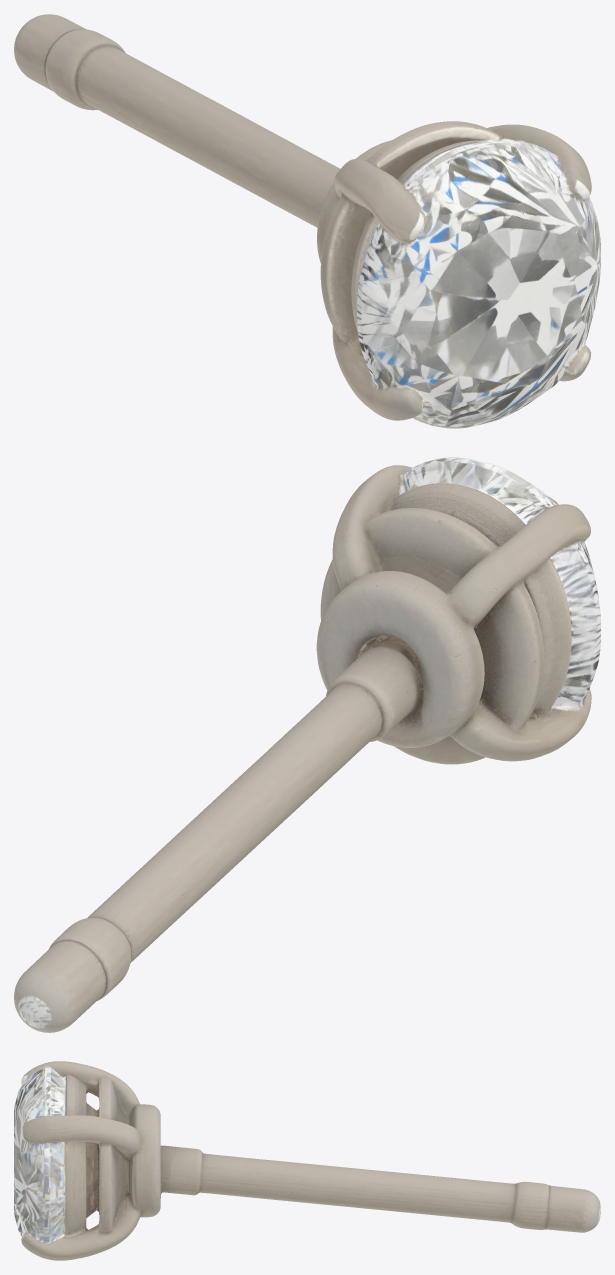
File: medusa_cz.glb
3 renders of one model, top to bottom at view 1: azimuth 30°, elevation 25°; view 2: azimuth 150°, elevation 25°; view 3: azimuth 270°, elevation 25°, orthographic. The views are drawn at different scales.
Visible parts, largest first — view 1: Mesh_0; view 2: Mesh_0; view 3: Mesh_0.
Part boxes in pixels (x1,y1,x2,y2): Mesh_0: [14, 14, 600, 428]; Mesh_0: [14, 457, 600, 1032]; Mesh_0: [14, 1061, 600, 1260].
Size of the model in its own units: 0.5612 by 0.6243 by 1.91.
Materials: 1 (1 with a texture image).
